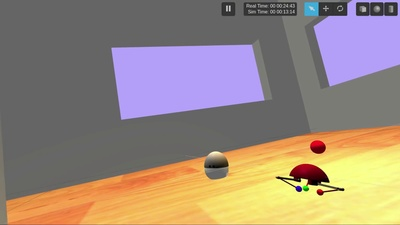mira_robot: (204, 151, 229, 179)
